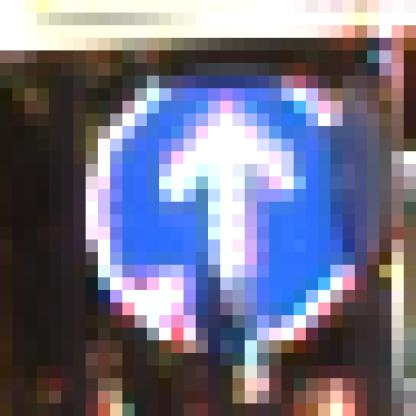AheadOnly: (75, 64, 344, 354)
